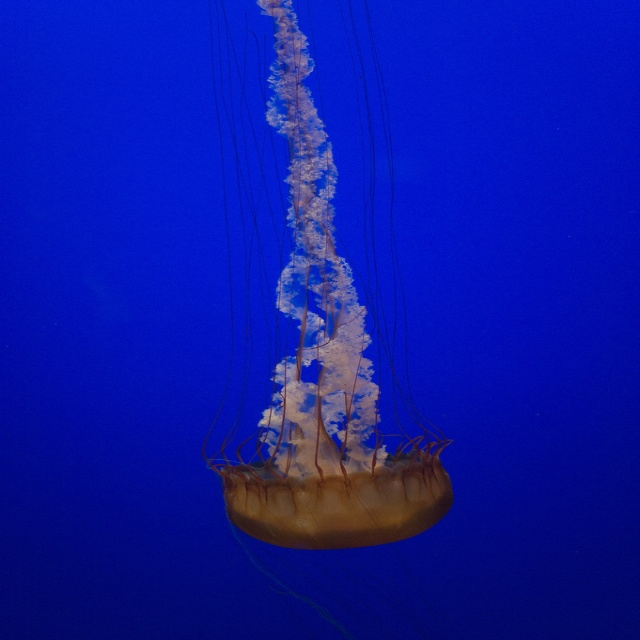Jellyfish: (206, 37, 459, 599)
